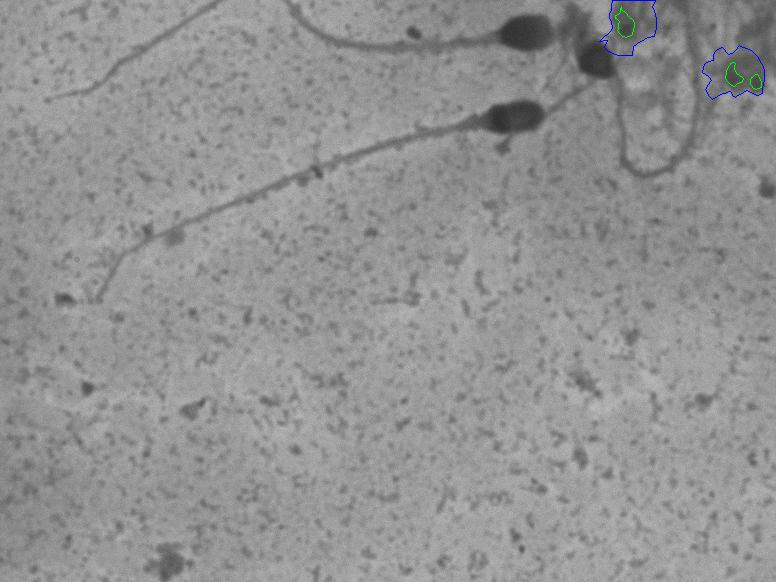Abnormal: (280, 84, 557, 200)
